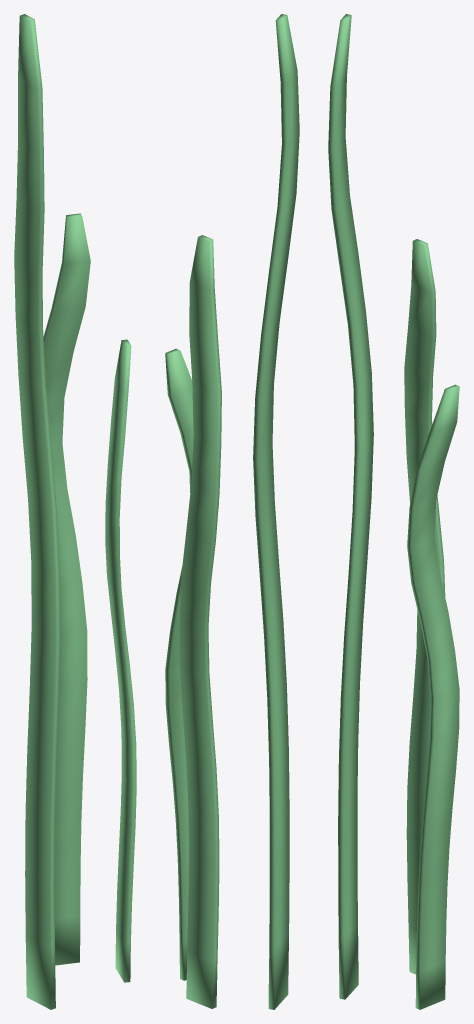
File: Medium4.fbx
3 renders of one model, left to right at view 1: azimuth 30°, elevation 25°; view 2: azimuth 150°, elevation 25°; view 3: azimuth 330°, elevation 25°, orthographic. The views are drawn at different scales.
Visible parts, largest first — view 1: Medium4_EXPORT; view 2: Medium4_EXPORT; view 3: Medium4_EXPORT.
Part boxes in pixels (<box>): Medium4_EXPORT: <box>14,14,136,1009</box>; Medium4_EXPORT: <box>165,14,299,1009</box>; Medium4_EXPORT: <box>328,14,459,1009</box>.
Size of the model in its own units: 0.9487 by 7.7 by 0.6837.
